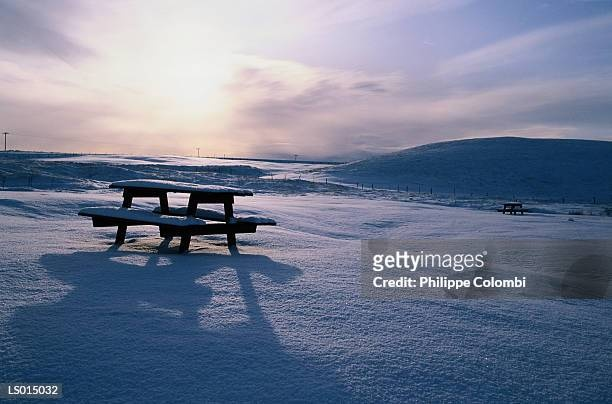obstacle: (79, 179, 275, 253)
